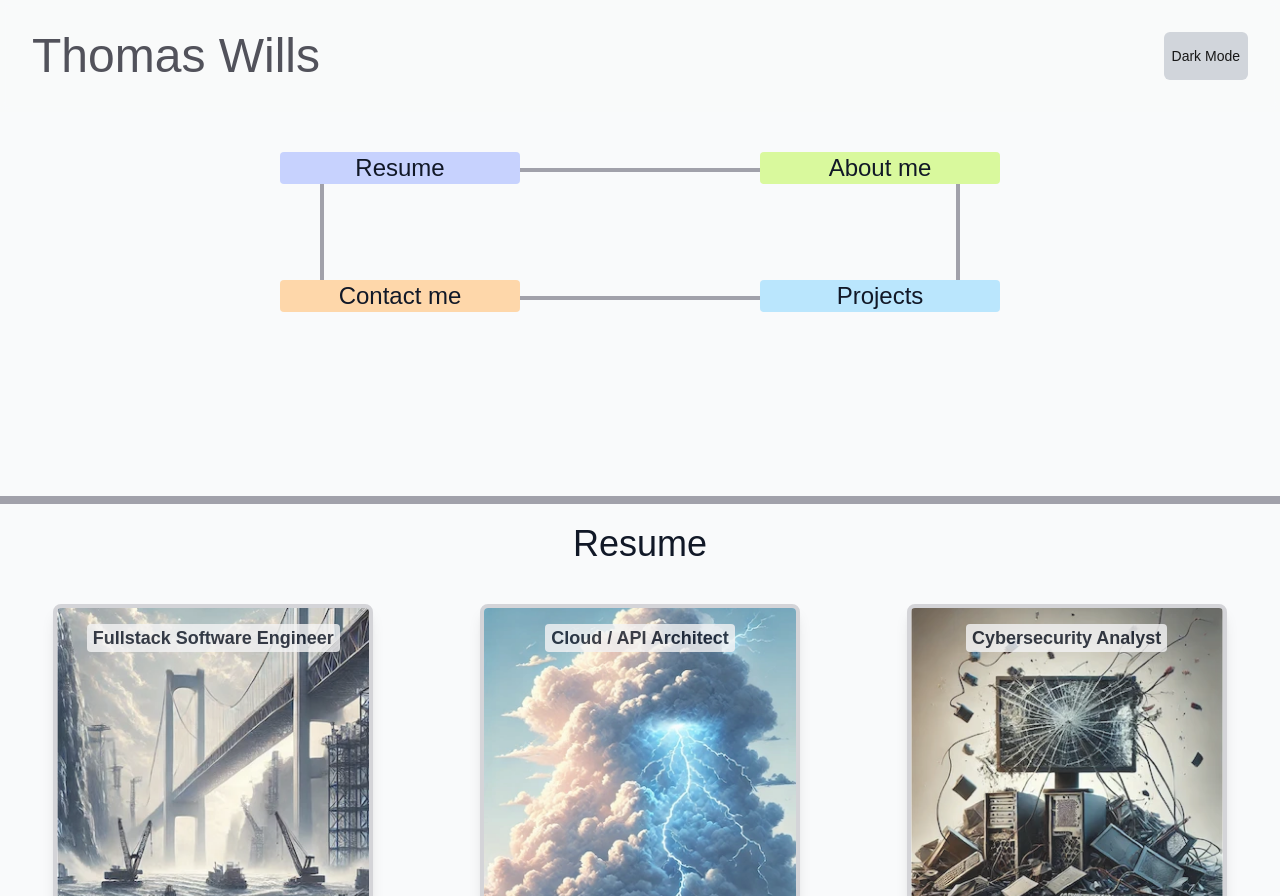
Scenario: Home Component › flips a card and shows details
Click the heading "Fullstack Software Engineer".
click(213, 638)  # box [87,624,340,652]
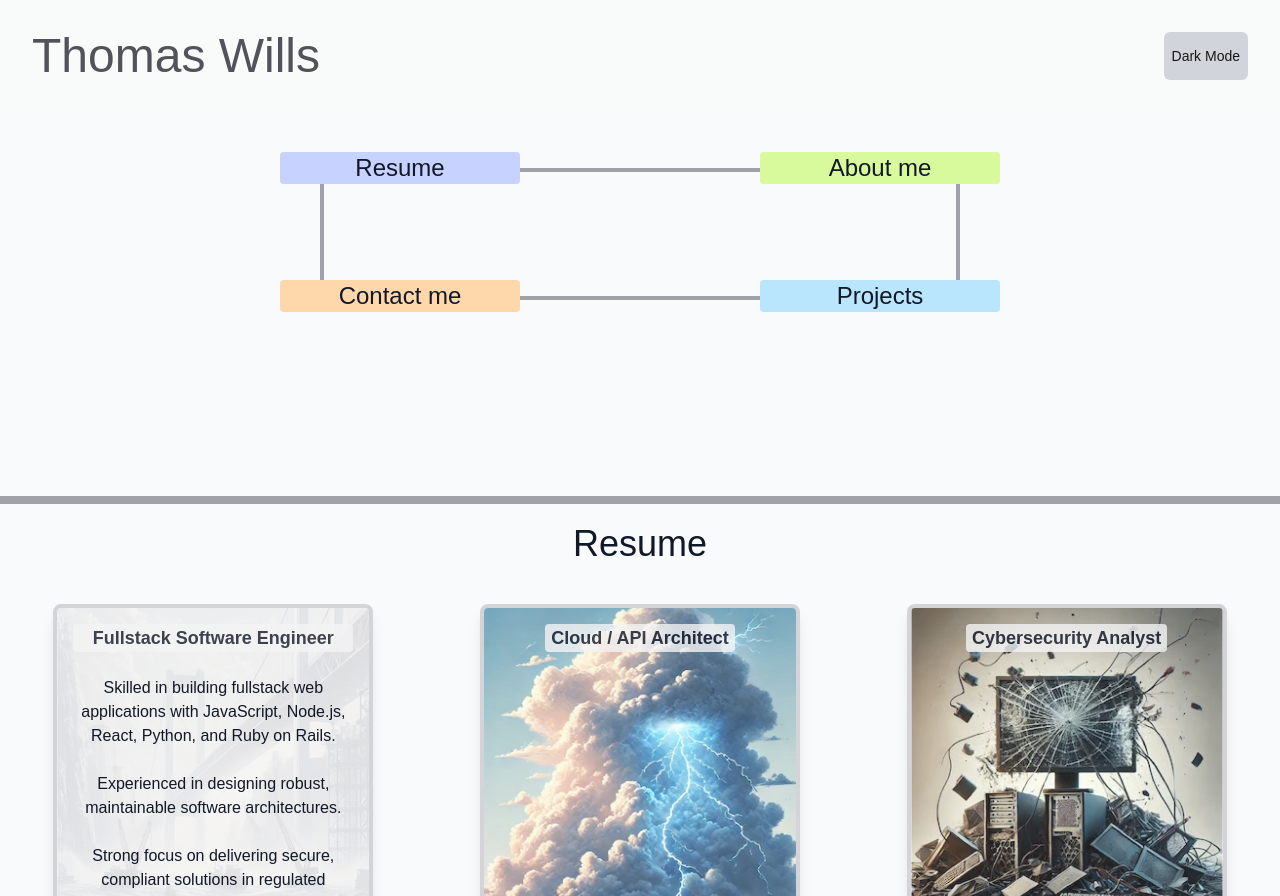
Expected: the text "Skilled in building fullstack web applications" is shown, [81,679,345,744]
